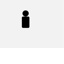human: (20, 8, 31, 29)
